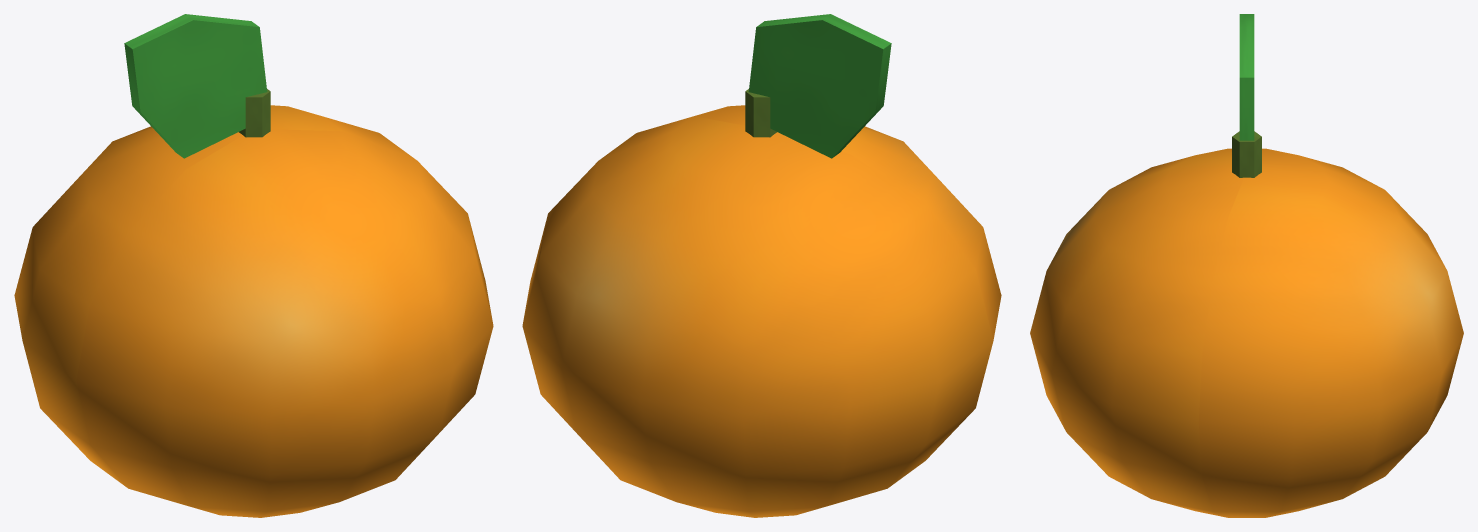
File: pickup_tangerine.glb
The picture shows the model from 3 angles, left to right: view 1: azimuth 30°, elevation 25°; view 2: azimuth 150°, elevation 25°; view 3: azimuth 270°, elevation 25°; orthographic projection. The views are drawn at different scales.
Parts seen in each view (by area): view 1: pickup_tangerine; view 2: pickup_tangerine; view 3: pickup_tangerine.
Boxes of the visible parts, bbox=[...] form: pickup_tangerine: bbox=[14, 14, 493, 517]; pickup_tangerine: bbox=[522, 14, 1001, 517]; pickup_tangerine: bbox=[1030, 14, 1463, 517].
Size of the model in its own units: 0.3412 by 0.3918 by 0.35.
Materials: 1 (1 with a texture image).
